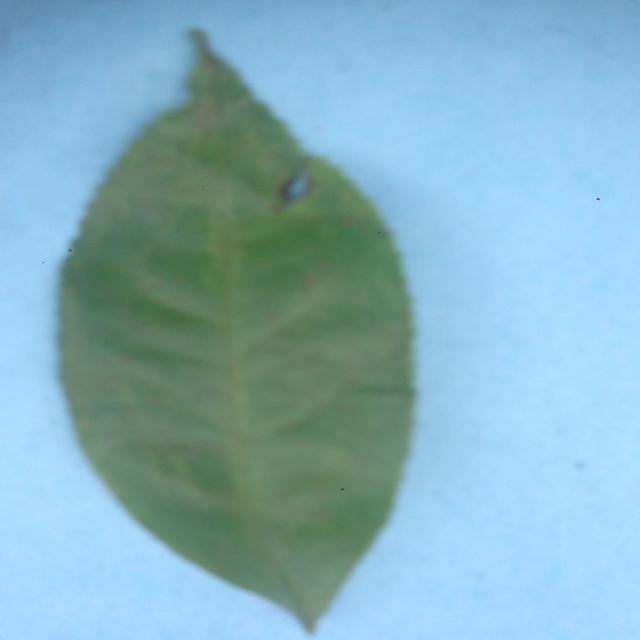Healthy: (54, 2, 446, 639)
